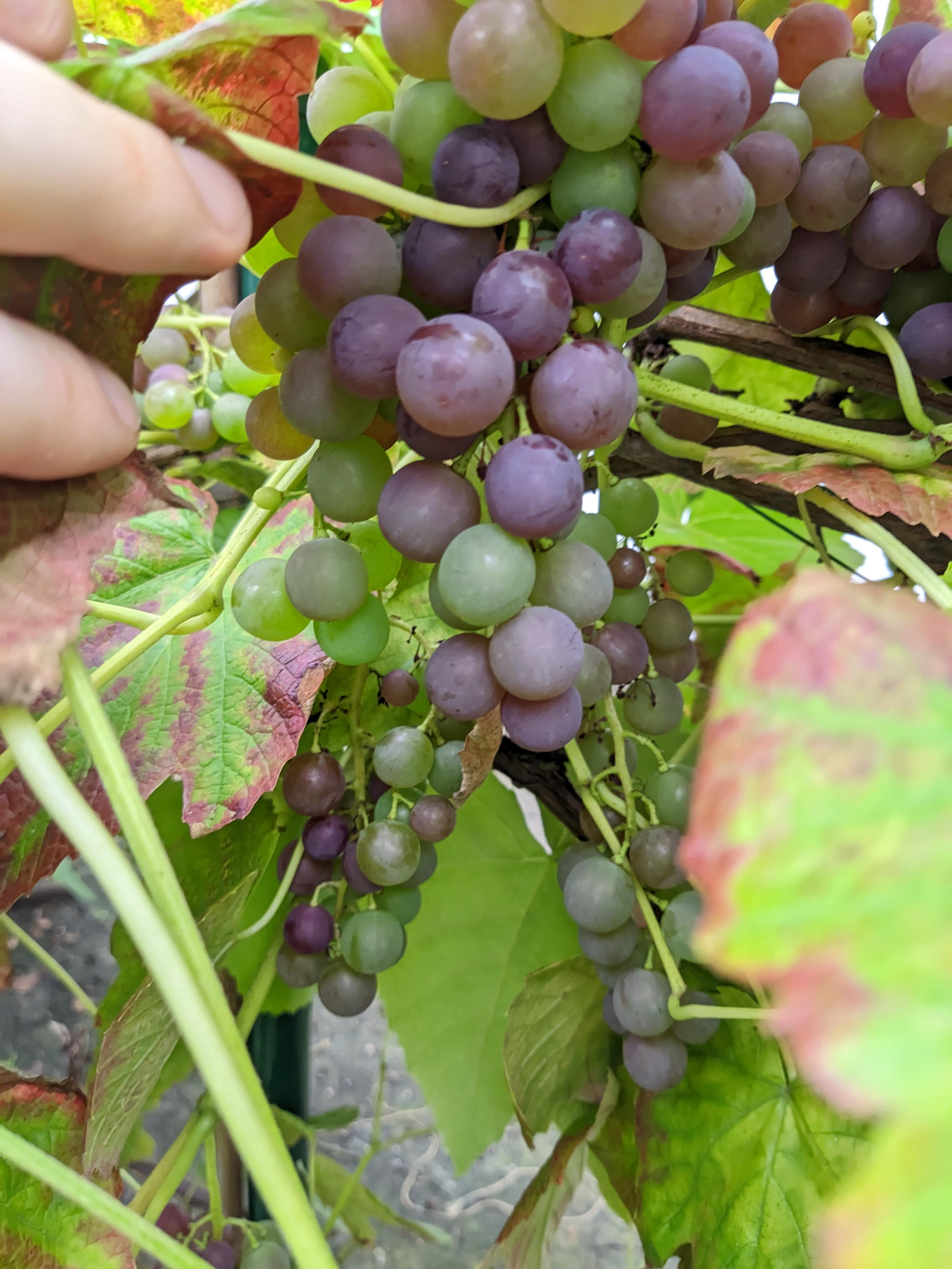Grape Unripe: (226, 0, 952, 1015), (480, 426, 719, 1105)
